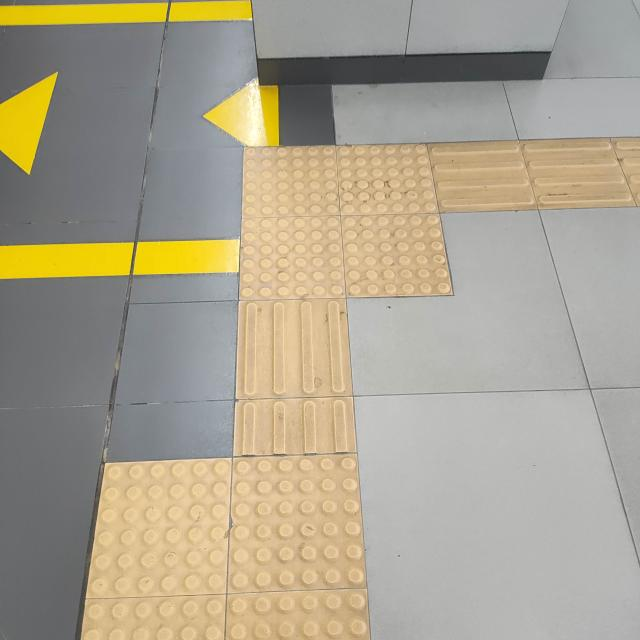kanan: (182, 116, 584, 320)
